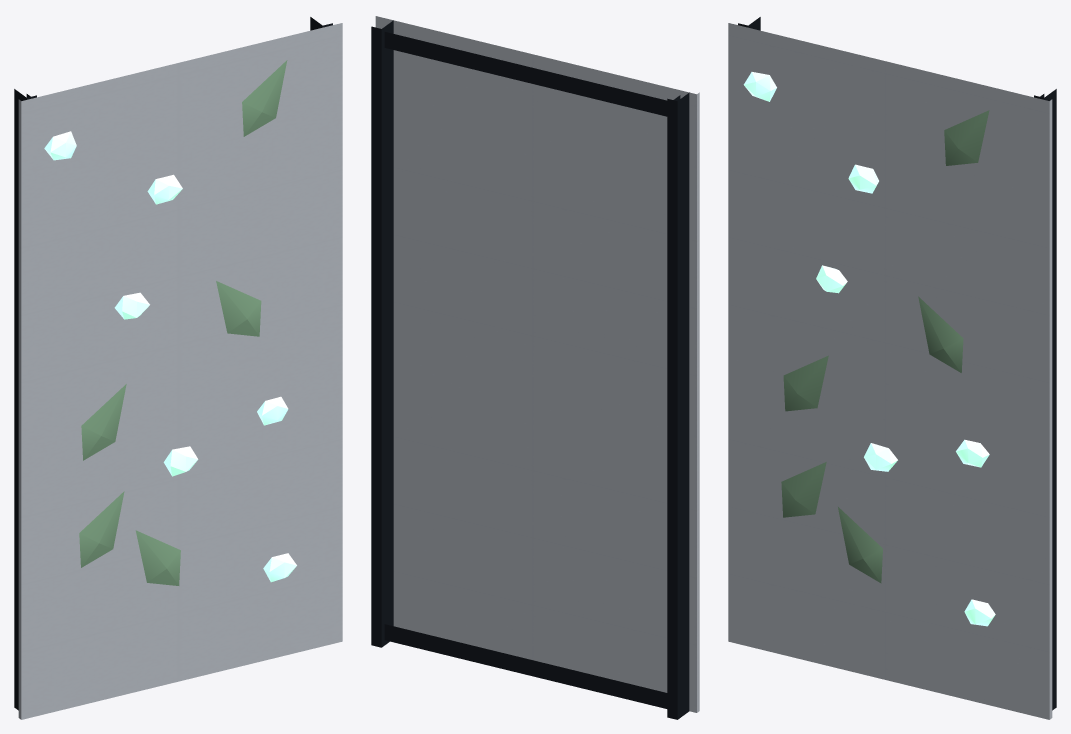
3 renders of one model, left to right at view 1: azimuth 30°, elevation 25°; view 2: azimuth 150°, elevation 25°; view 3: azimuth 330°, elevation 25°, orthographic.
Parts seen in each view (by area): view 1: Face_Sheet, Leaf_Edges, Holds, Sub_Frame; view 2: Face_Sheet, Sub_Frame; view 3: Face_Sheet, Leaf_Edges, Holds, Sub_Frame.
Boxes of the visible parts, x1,y1,x2,y2 form: Face_Sheet: (18, 23, 342, 719); Leaf_Edges: (79, 60, 287, 585); Holds: (44, 131, 296, 582); Sub_Frame: (14, 17, 332, 710); Face_Sheet: (375, 16, 699, 712); Sub_Frame: (371, 20, 689, 719); Face_Sheet: (728, 23, 1052, 719); Leaf_Edges: (781, 110, 989, 583); Holds: (743, 72, 995, 626); Sub_Frame: (738, 17, 1056, 710).
Size of what is drawn, in the model's own units: 1.25 by 2.3 by 0.1574.
Materials: 4 (2 with a texture image).
